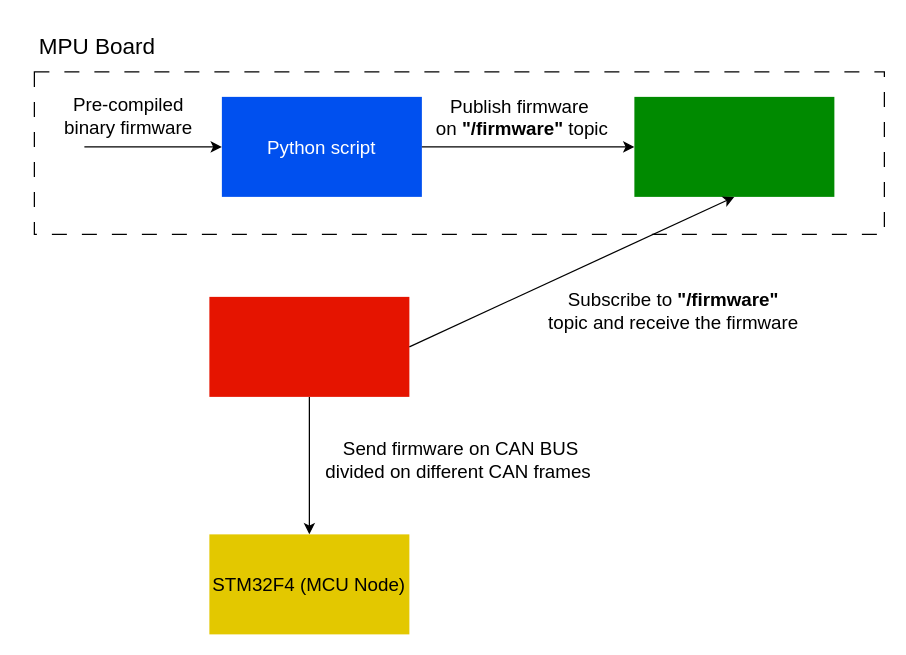
The diagram is 906 pixels wide and 655 high, and some of its shapes have lost their labels. The shapes that lost their labels are listed below. From the top down, each one's centre as x and y in pixels, then its label:
(734,146): MOSQUITTO Broker
(309,346): STM32H7 (Domain Controller)
